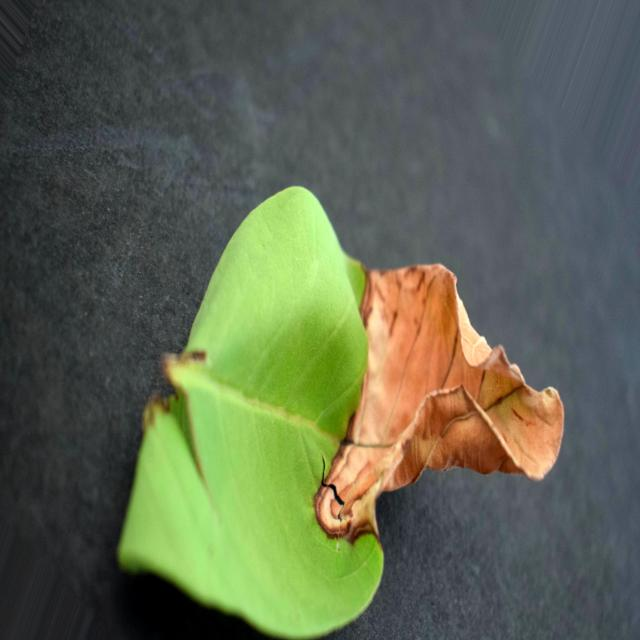Mummification: (118, 188, 564, 638)
